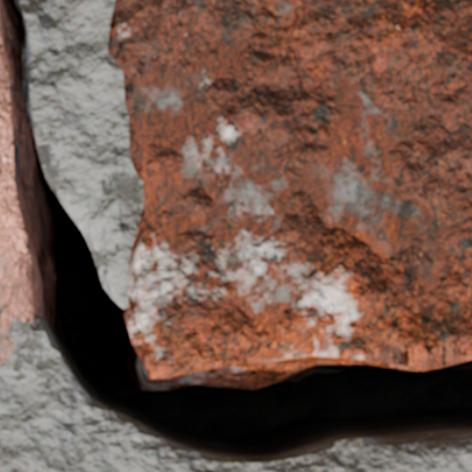brick: (110, 0, 471, 377), (0, 3, 34, 364)
crack: (0, 0, 471, 471)
